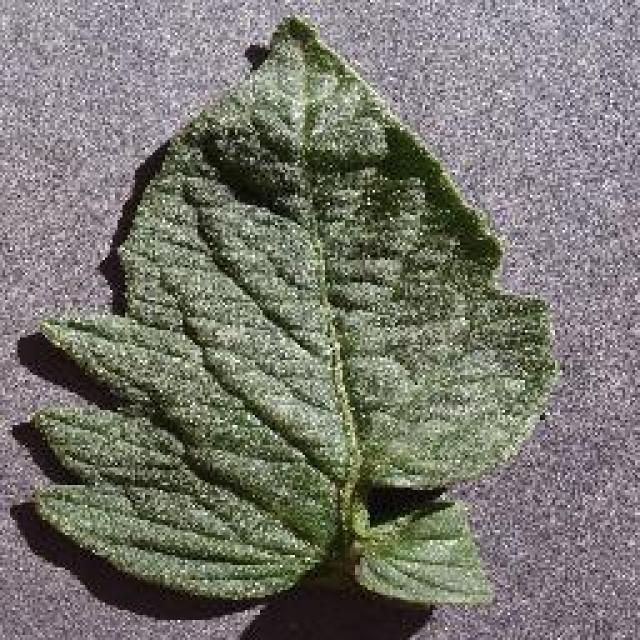Healthy: (18, 0, 580, 640)
